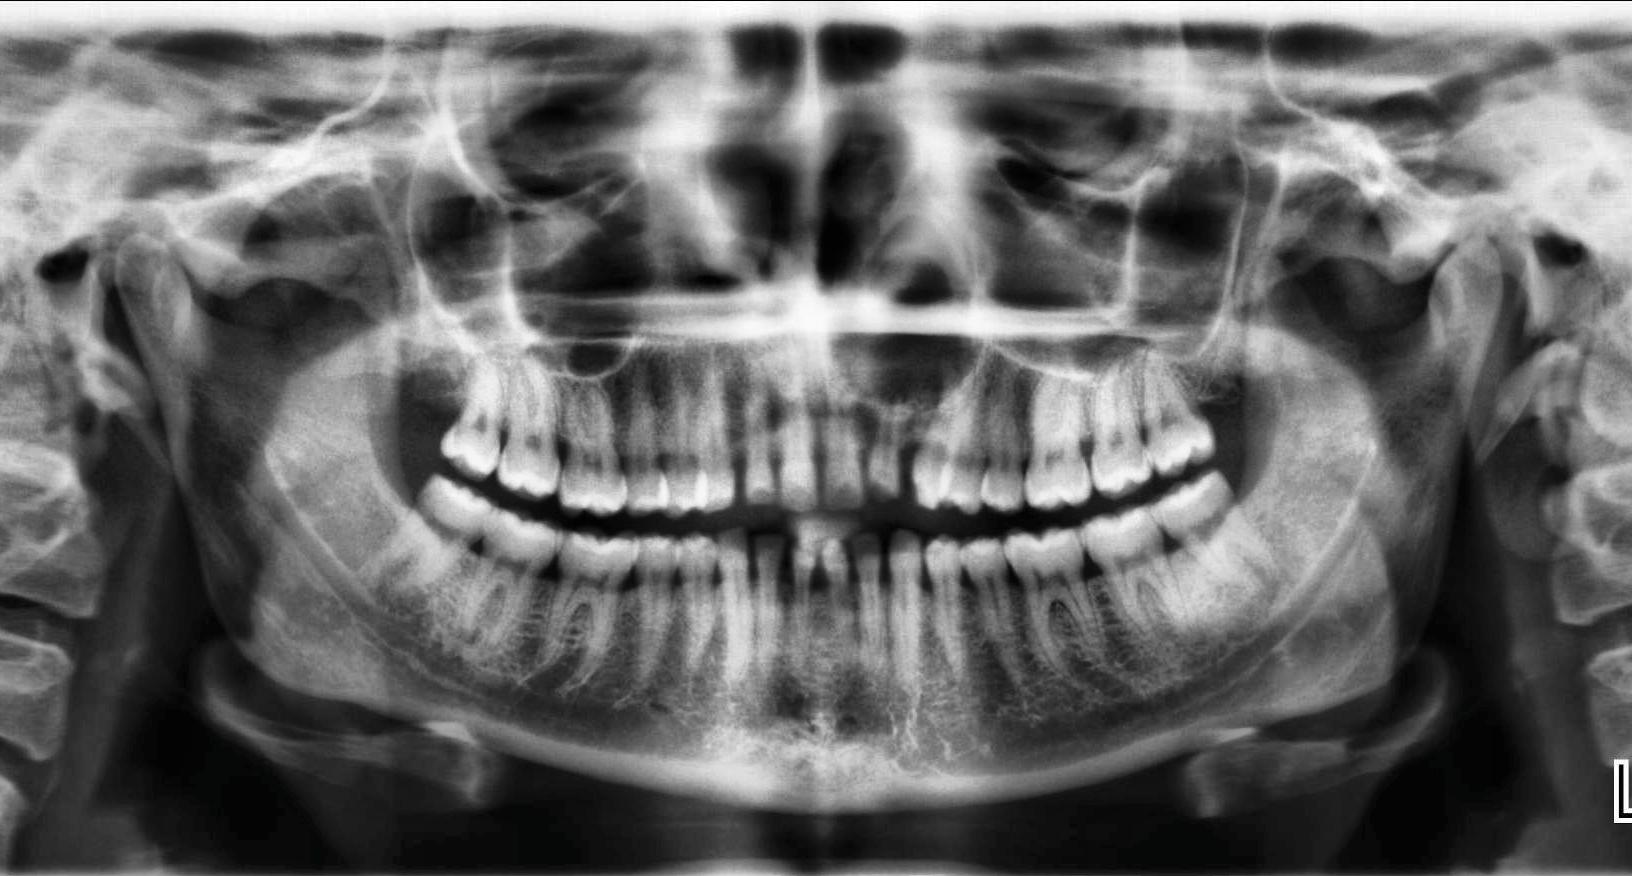radikuler: (826, 211, 988, 413)
